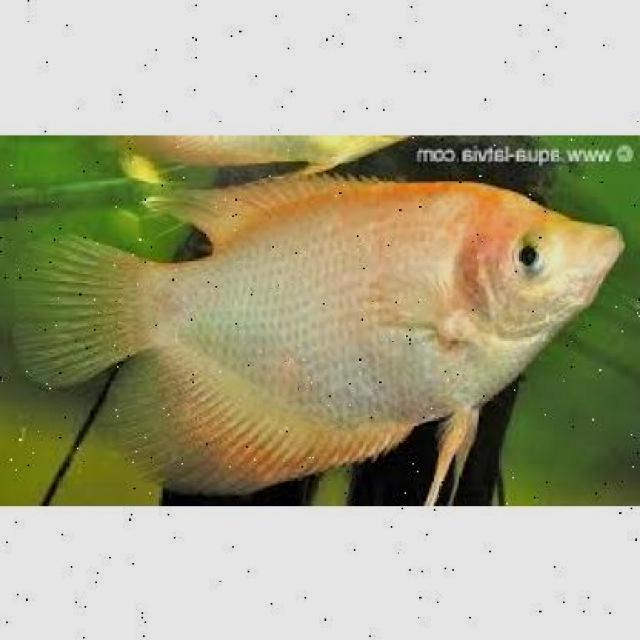gurame: (29, 173, 626, 494)
